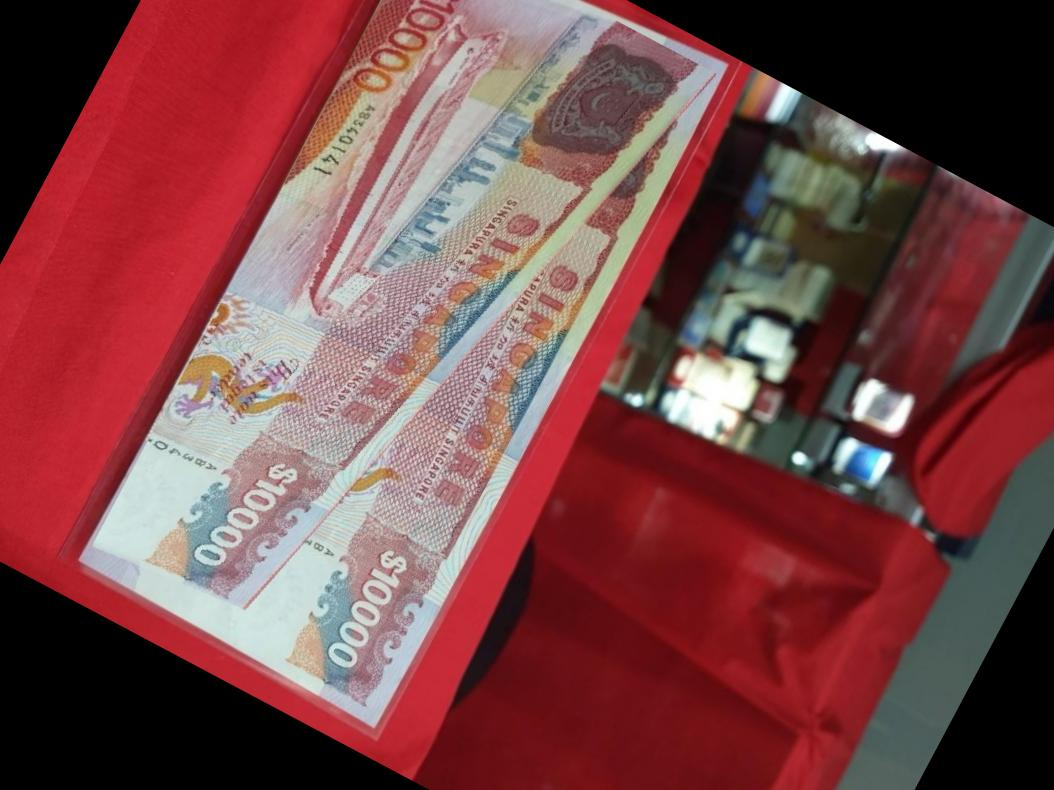10000SingaporeDollar: (83, 0, 723, 720)
